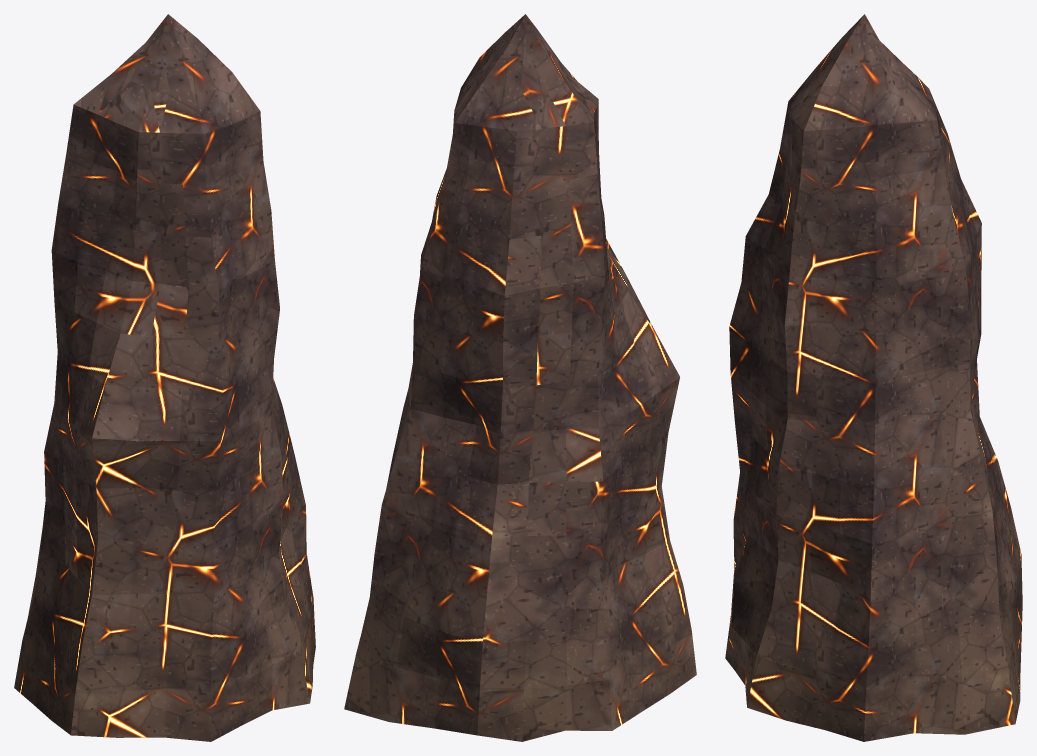
Rendered from volcanic_pillar.glb.
3 renders of one model, left to right at view 1: azimuth 30°, elevation 25°; view 2: azimuth 150°, elevation 25°; view 3: azimuth 270°, elevation 25°, orthographic.
Parts seen in each view (by area): view 1: volcanic_pillar; view 2: volcanic_pillar; view 3: volcanic_pillar.
Part boxes in pixels (x1,y1,x2,y2): volcanic_pillar: [14, 14, 315, 741]; volcanic_pillar: [344, 14, 696, 741]; volcanic_pillar: [725, 14, 1022, 741].
Bounding box in the file's own units: 4.07 × 9.28 × 3.78.
1 material, 1 textured.
